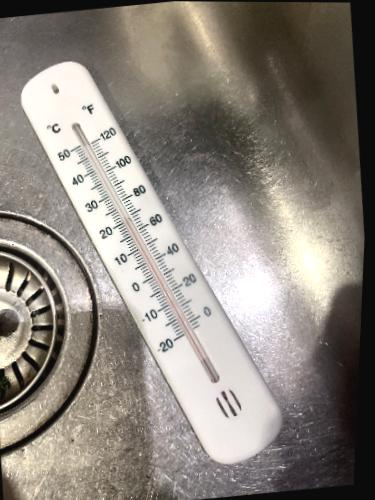thermo: (14, 48, 293, 472)
